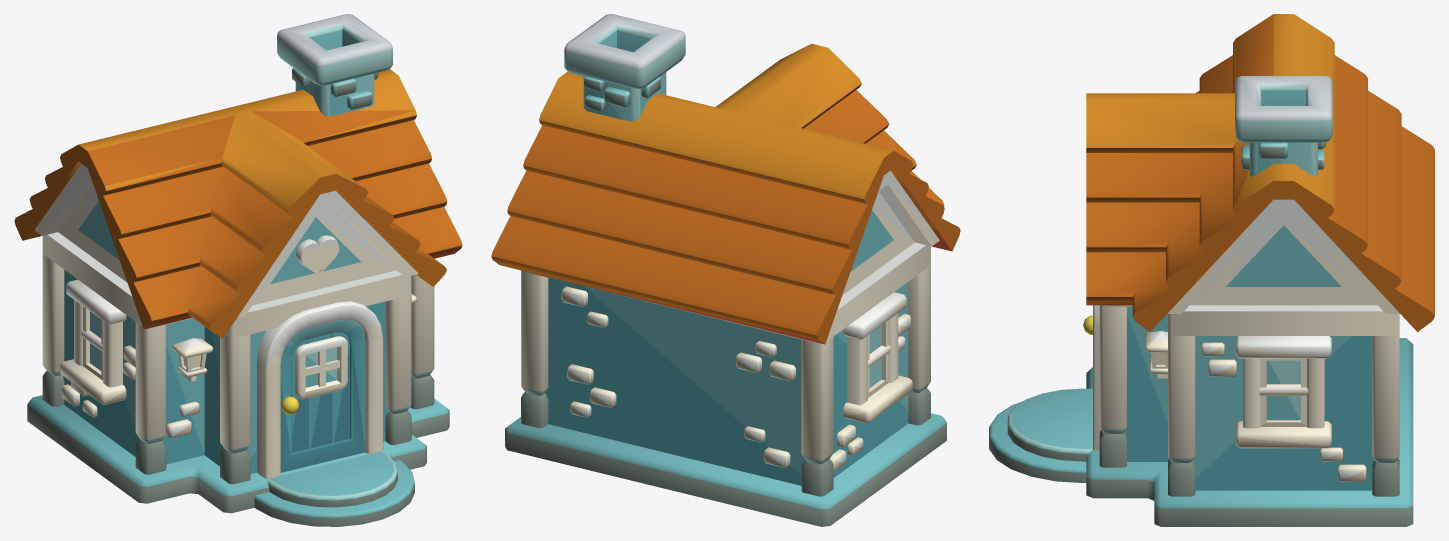
Rendered from itch_tiny_homely_house_house.glb.
3 views of the same model, side by side, from view 1: azimuth 30°, elevation 25°; view 2: azimuth 150°, elevation 25°; view 3: azimuth 270°, elevation 25° (orthographic). The views are drawn at different scales.
Parts seen in each view (by area): view 1: house, house_door, house_chimney, house_heart; view 2: house, house_chimney; view 3: house, house_chimney.
Boxes of the visible parts, left/top/right/bottom form: house: left=14, top=69, right=462, bottom=526; house_door: left=280, top=320, right=365, bottom=472; house_chimney: left=277, top=14, right=392, bottom=116; house_heart: left=296, top=235, right=339, bottom=272; house: left=491, top=43, right=960, bottom=526; house_chimney: left=564, top=14, right=685, bottom=121; house: left=989, top=14, right=1434, bottom=526; house_chimney: left=1235, top=76, right=1332, bottom=176.
Bounding box in the file's own units: 1.37 × 1.51 × 1.52.
